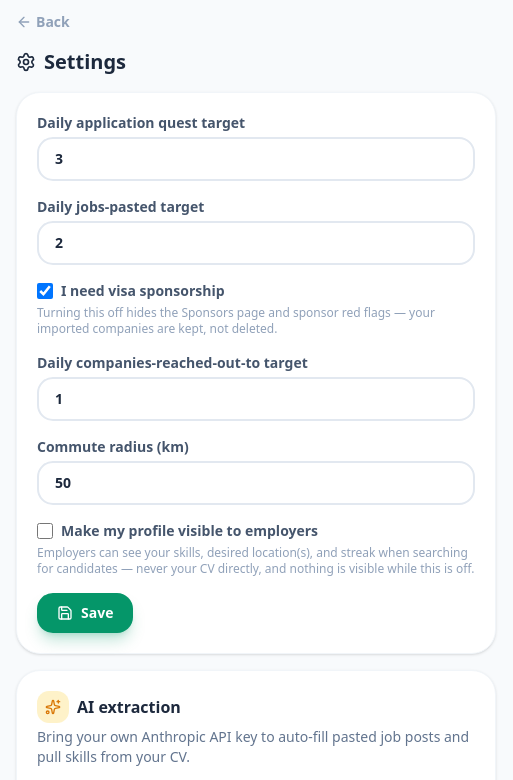
it: Settings › shows an error when saving fails
Click the button "Save". click: click(85, 613)
box: [37,593,133,633]
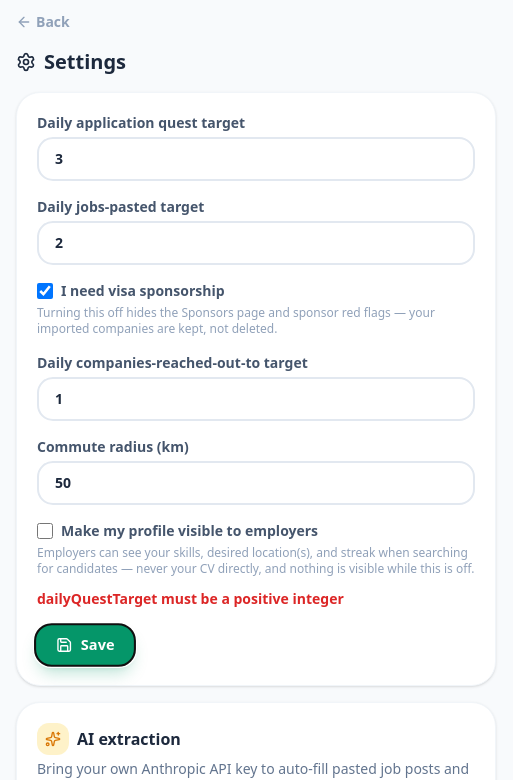
expect the message shows "positive integer": met, box [37,589,344,608]
